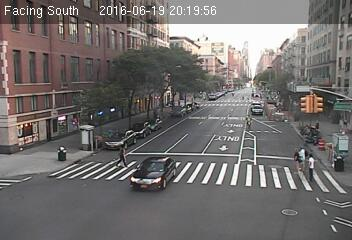neg: (220, 186, 251, 227), (70, 185, 98, 222), (186, 168, 213, 204), (256, 158, 282, 192), (100, 54, 125, 87), (150, 155, 175, 188), (287, 32, 312, 65), (59, 66, 82, 98), (75, 124, 98, 154), (46, 138, 68, 168), (164, 61, 184, 88), (147, 197, 166, 222), (41, 30, 60, 55), (328, 147, 346, 171), (196, 101, 214, 125), (244, 59, 261, 82), (312, 95, 328, 117), (32, 102, 48, 124), (273, 103, 288, 124), (238, 107, 251, 125)
pos: (112, 140, 136, 172), (299, 151, 322, 182), (293, 142, 310, 165)
